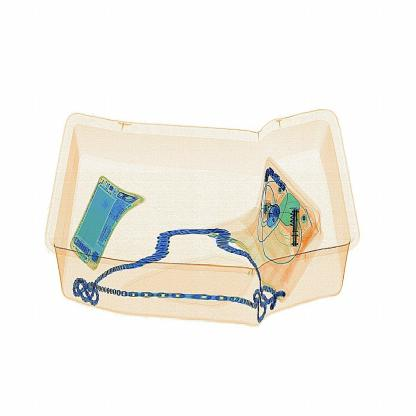scissors: (285, 199, 309, 258)
